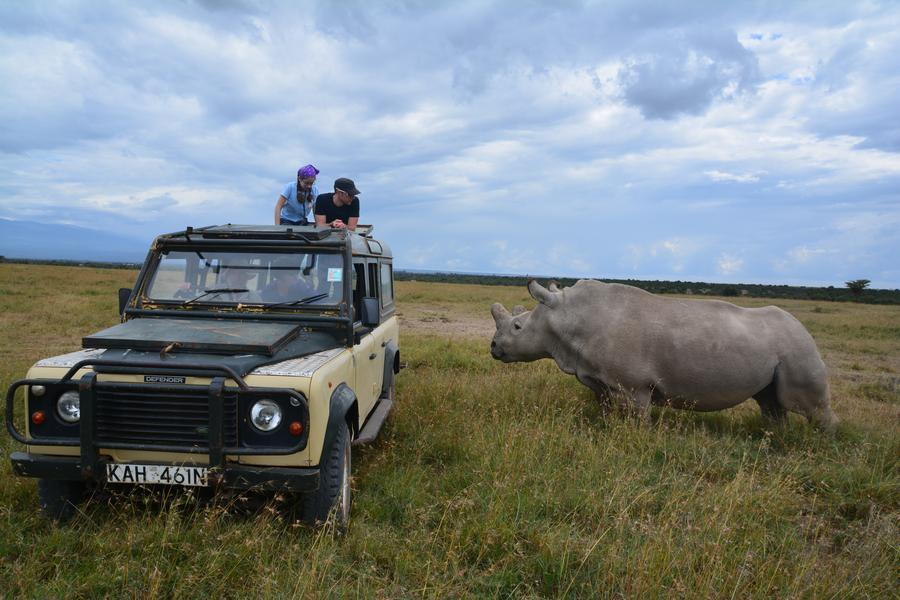rhino: (498, 262, 864, 454)
